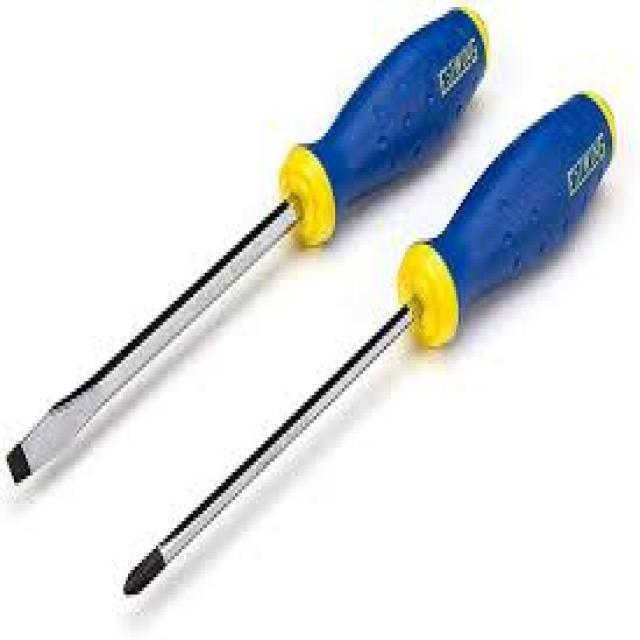screwdriver: (115, 88, 620, 602), (3, 0, 494, 490)
